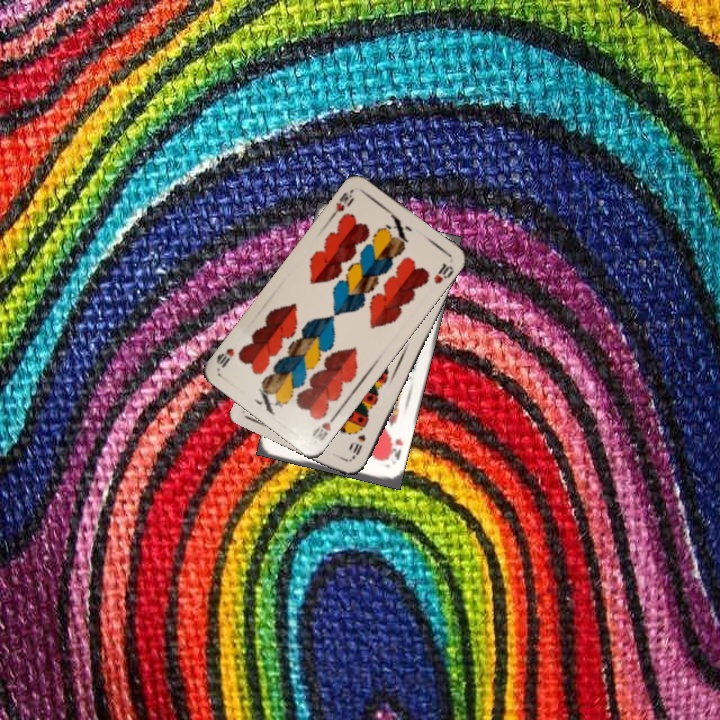H10: (308, 409, 340, 444), (327, 185, 357, 220)
HK: (382, 433, 405, 467)
S10: (348, 430, 368, 462)
